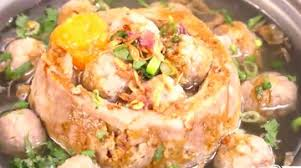bakso: (16, 11, 255, 159)
